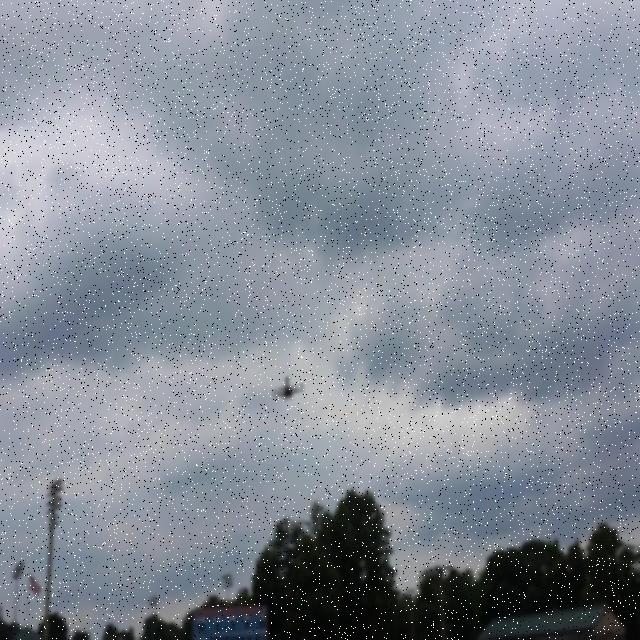UAV: (272, 377, 304, 402)
